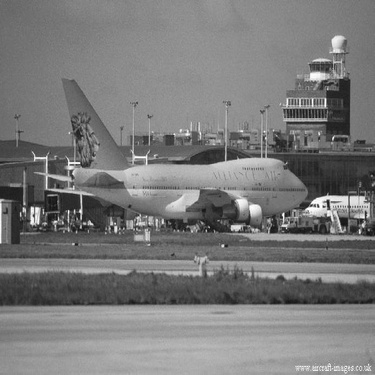airplane: (44, 69, 310, 231), (292, 184, 373, 233)
